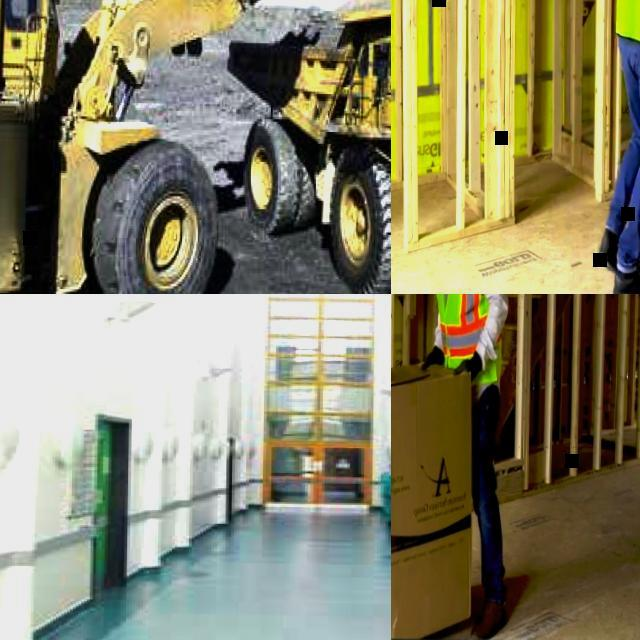machinery: (0, 0, 325, 294), (224, 0, 391, 294)
person: (422, 294, 513, 637), (601, 0, 640, 294), (6, 0, 29, 33)
vest: (432, 294, 510, 399)
